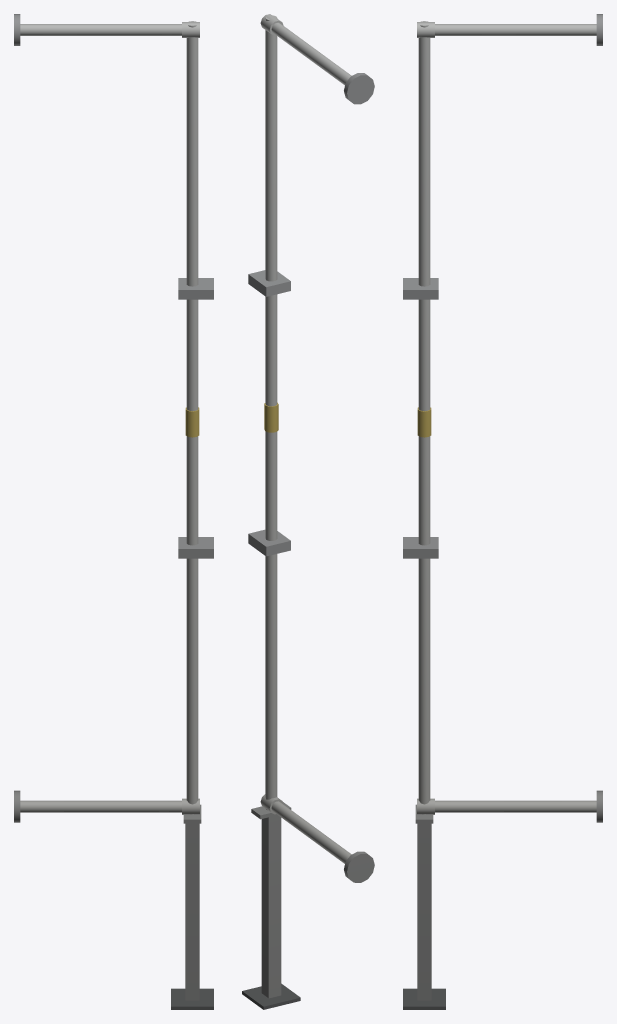
File: flRiser_steel.glb
3 views of the same model, side by side, from view 1: azimuth 90°, elevation 25°; view 2: azimuth 210°, elevation 25°; view 3: azimuth 270°, elevation 25° (orthographic).
Parts seen in each view (by area): view 1: flRiser_steel; view 2: flRiser_steel; view 3: flRiser_steel.
Boxes of the visible parts, x1,y1,x2,y2 form: flRiser_steel: (14, 14, 213, 1009); flRiser_steel: (242, 14, 374, 1009); flRiser_steel: (403, 14, 602, 1009).
Bounding box in the file's own units: 0.12 × 3.05 × 0.56.
